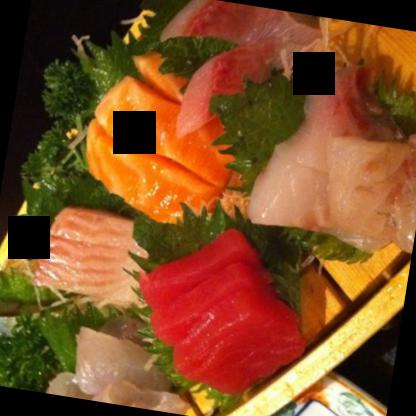tuna: (129, 217, 308, 390)
